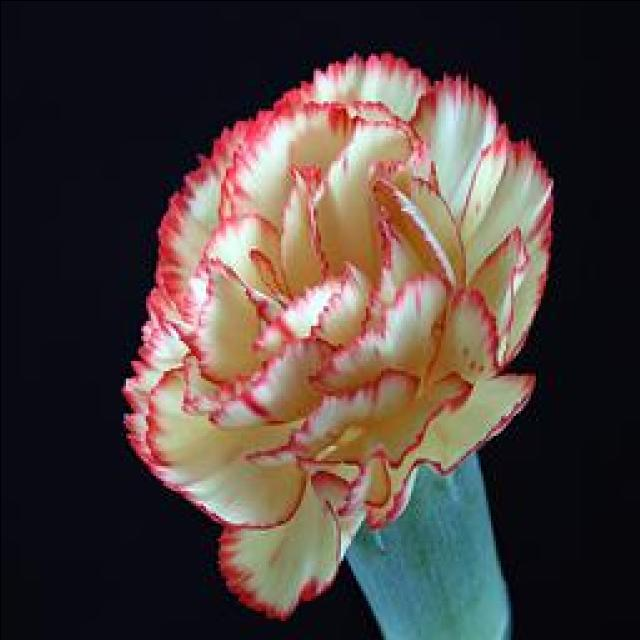carnation: (88, 27, 570, 599)
